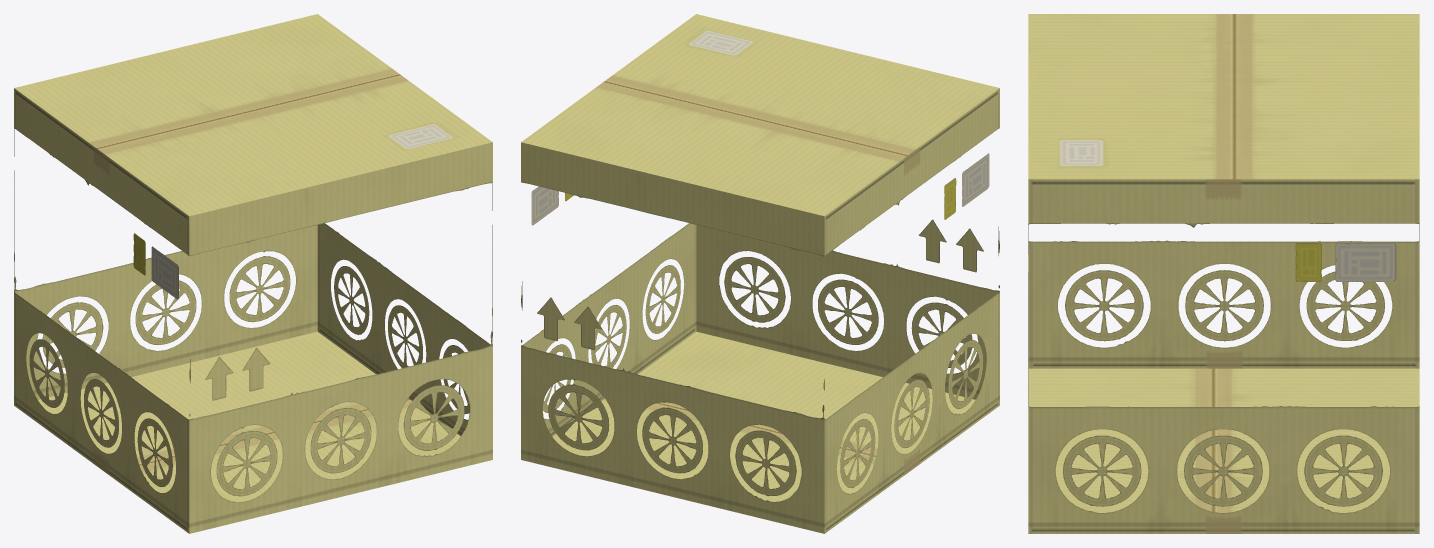
Rendered from p_mesh_orangebox.fbx.
The picture shows the model from 3 angles, left to right: view 1: azimuth 30°, elevation 25°; view 2: azimuth 150°, elevation 25°; view 3: azimuth 270°, elevation 25°; orthographic projection. The views are drawn at different scales.
Visible parts, largest first — view 1: p_mesh_containers_vegboxorange; view 2: p_mesh_containers_vegboxorange; view 3: p_mesh_containers_vegboxorange.
Part boxes in pixels (x1,y1,x2,y2): p_mesh_containers_vegboxorange: (14, 14, 492, 533); p_mesh_containers_vegboxorange: (521, 14, 999, 533); p_mesh_containers_vegboxorange: (1028, 14, 1419, 533).
Size of the model in its own units: 6 by 6 by 6.
